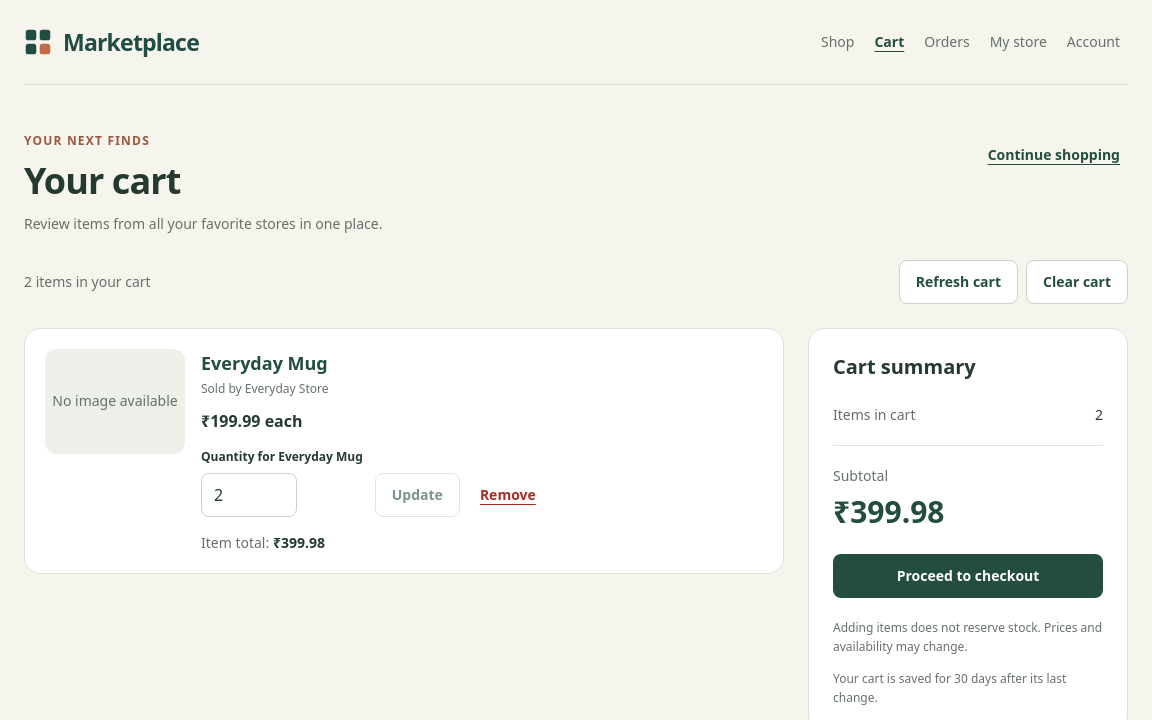
invalid quantities do not send an update
Expected: the text "2 items in your cart" is shown, [24, 272, 151, 292]
Replace the text in the number field labelled "Quantity for Everyday Mug" with "9" at (249, 495), box [201, 473, 297, 517]
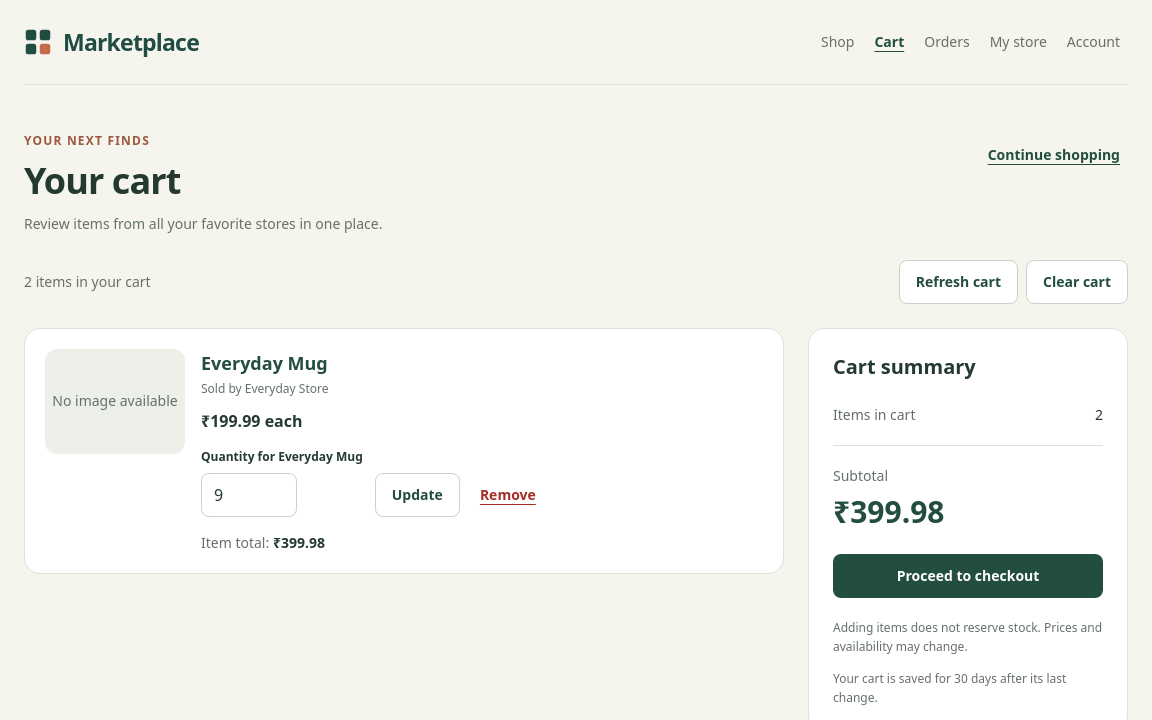
Click the button "Update" at (417, 495), box [375, 473, 460, 517]
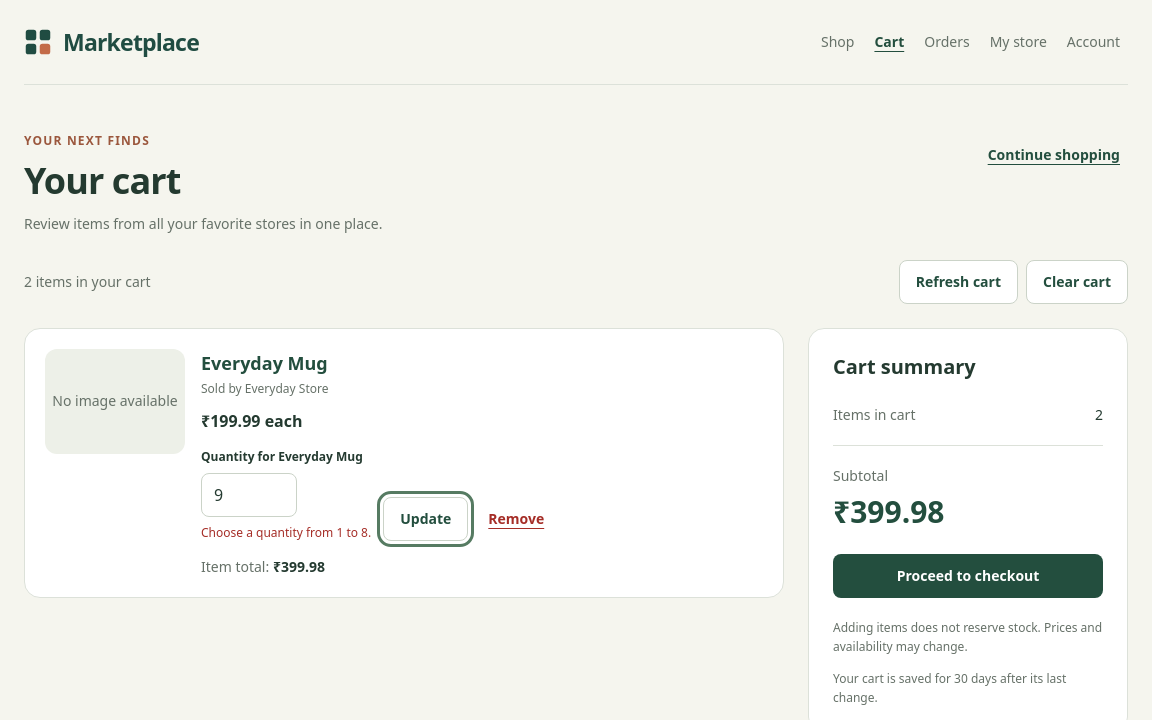
Expected: the message shows "1 to 8", [201, 524, 371, 541]
